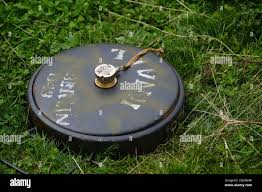car: (19, 28, 195, 159)
